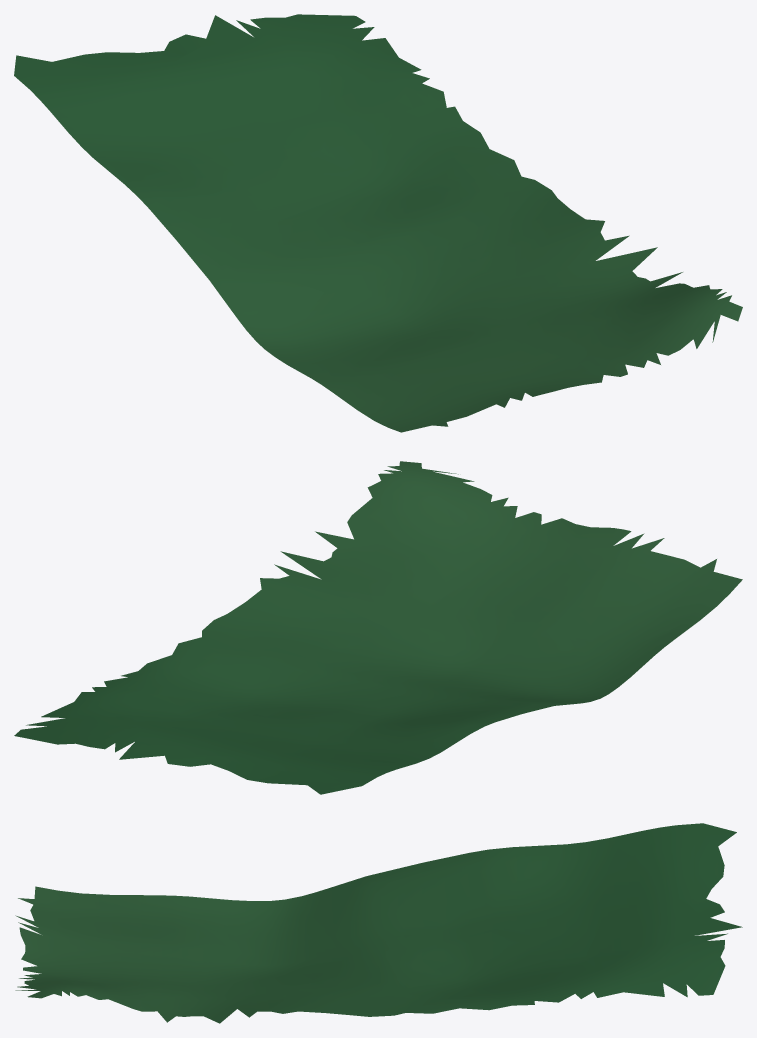
The model's file is payo_land_x4_y6.glb.
3 renders of one model, top to bottom at view 1: azimuth 30°, elevation 25°; view 2: azimuth 150°, elevation 25°; view 3: azimuth 270°, elevation 25°, orthographic. The views are drawn at different scales.
Parts seen in each view (by area): view 1: payo_land_x4_y6; view 2: payo_land_x4_y6; view 3: payo_land_x4_y6.
Part boxes in pixels (x1,y1,x2,y2): payo_land_x4_y6: (14, 14, 742, 432); payo_land_x4_y6: (14, 461, 742, 794); payo_land_x4_y6: (15, 823, 742, 1023).
Bounding box in the file's own units: 134 × 34.65 × 269.
